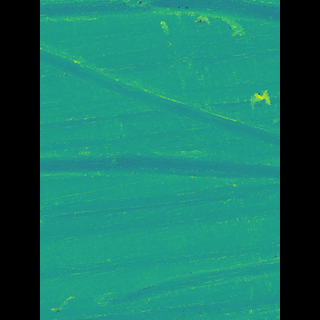Loch: (69, 40, 249, 149), (110, 256, 250, 310), (69, 152, 249, 182), (69, 0, 251, 18)
